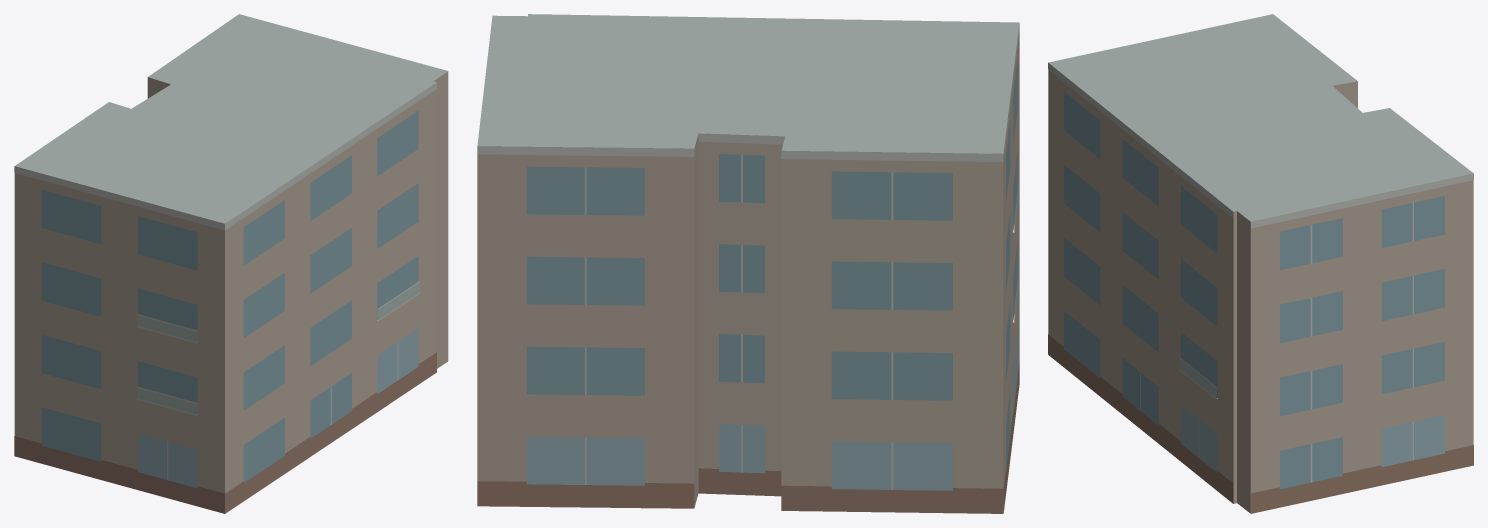
Rendered from survey-upis-32935211.glb.
The picture shows the model from 3 angles, left to right: view 1: azimuth 30°, elevation 25°; view 2: azimuth 150°, elevation 25°; view 3: azimuth 270°, elevation 25°; orthographic projection. The views are drawn at different scales.
Parts seen in each view (by area): view 1: survey-upis-32935211.tmp; view 2: survey-upis-32935211.tmp; view 3: survey-upis-32935211.tmp.
Boxes of the visible parts, box(x1,y1,x2,y2) form: survey-upis-32935211.tmp: box(14, 14, 448, 513); survey-upis-32935211.tmp: box(477, 14, 1019, 513); survey-upis-32935211.tmp: box(1048, 14, 1473, 513).
Size of the model in its own units: 16.02 by 10.5 by 13.88.
